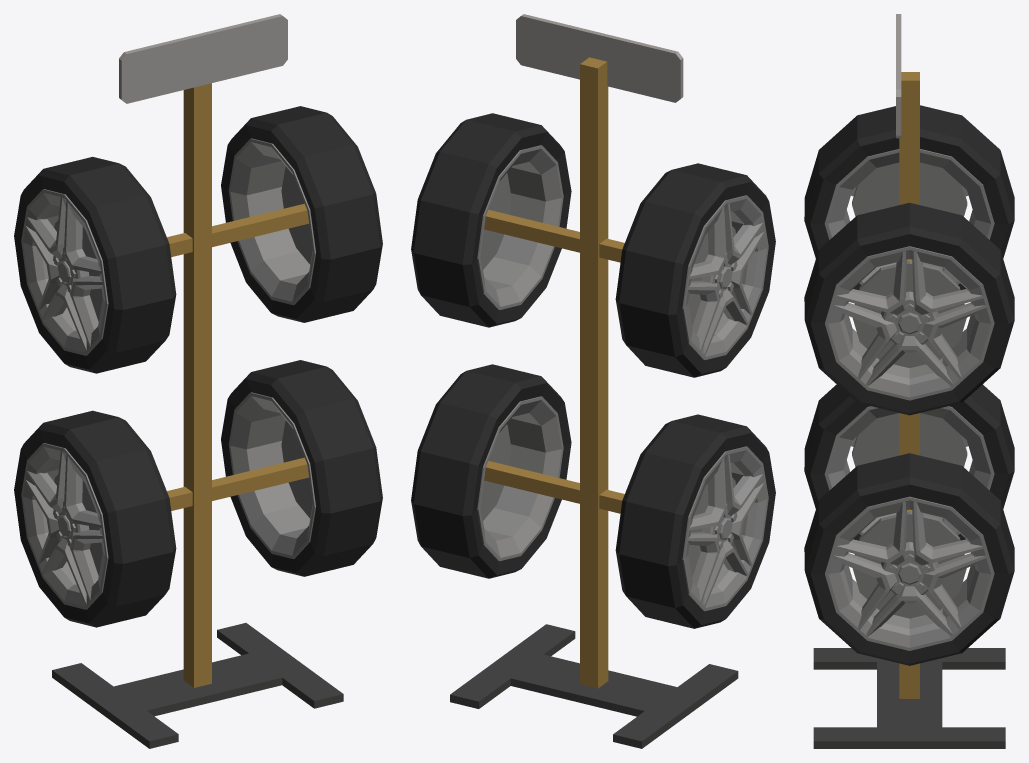
The model's file is SM_Props_Interior_Shop_AutoRepair_TireStand.fbx.
3 renders of one model, left to right at view 1: azimuth 30°, elevation 25°; view 2: azimuth 150°, elevation 25°; view 3: azimuth 270°, elevation 25°, orthographic.
Parts seen in each view (by area): view 1: SM_Props_Interior_Shop_AutoRepair_TireStand; view 2: SM_Props_Interior_Shop_AutoRepair_TireStand; view 3: SM_Props_Interior_Shop_AutoRepair_TireStand.
Part boxes in pixels (x1,y1,x2,y2): SM_Props_Interior_Shop_AutoRepair_TireStand: [14, 14, 382, 748]; SM_Props_Interior_Shop_AutoRepair_TireStand: [411, 14, 775, 748]; SM_Props_Interior_Shop_AutoRepair_TireStand: [804, 14, 1014, 748].
Size of the model in its own units: 113 by 260 by 76.05.
